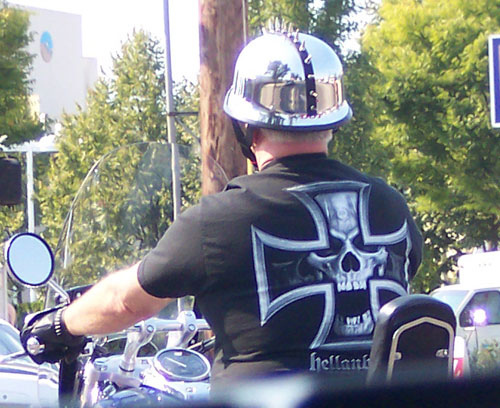helmet: (225, 21, 357, 133)
